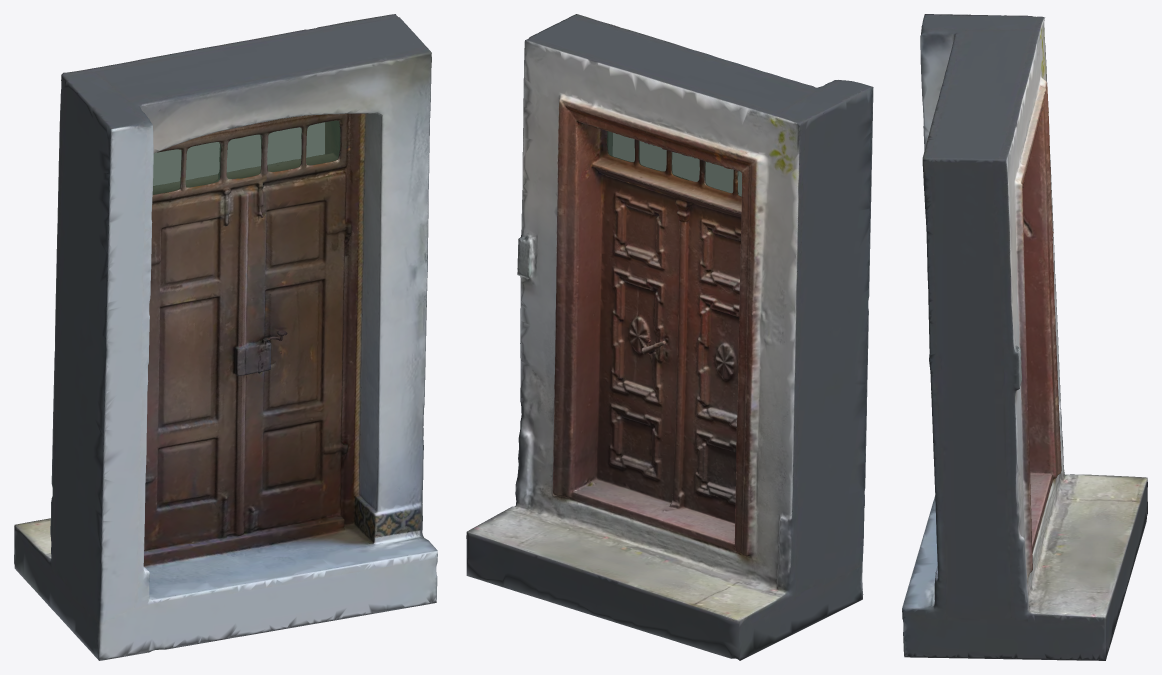
The model's file is preview.glb.
3 renders of one model, left to right at view 1: azimuth 30°, elevation 25°; view 2: azimuth 150°, elevation 25°; view 3: azimuth 270°, elevation 25°, orthographic. The views are drawn at different scales.
Parts seen in each view (by area): view 1: Object_4, Object_12; view 2: Object_4, Object_12; view 3: Object_4.
Part boxes in pixels (x1,y1,x2,y2): Object_4: (14, 14, 437, 660); Object_12: (152, 120, 340, 194); Object_4: (466, 14, 873, 660); Object_12: (606, 131, 741, 196); Object_4: (902, 14, 1147, 660).
Size of the model in its own units: 42.51 by 65.58 by 28.9.
Materials: 2 (1 with a texture image).
